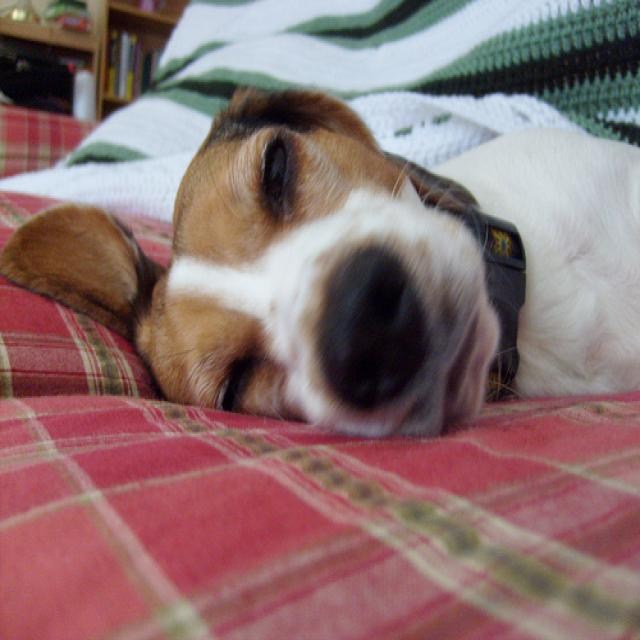dog-beagle: (1, 77, 637, 452)
